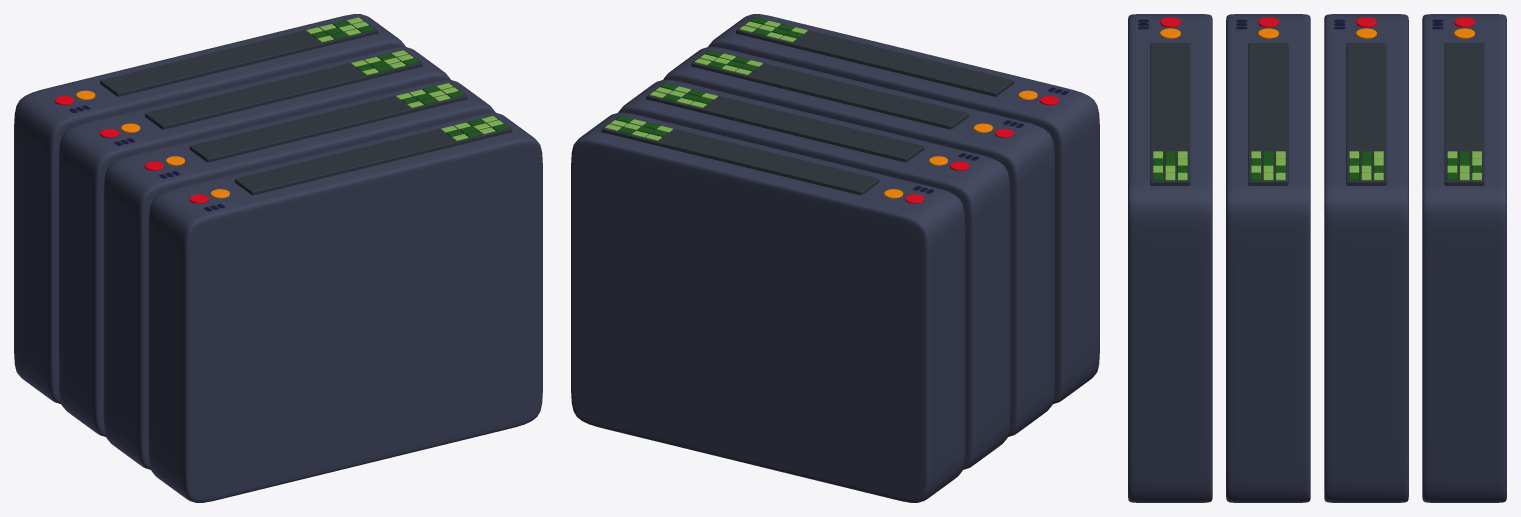
File: generic_server2.glb
3 renders of one model, left to right at view 1: azimuth 30°, elevation 25°; view 2: azimuth 150°, elevation 25°; view 3: azimuth 270°, elevation 25°, orthographic. The views are drawn at different scales.
Parts seen in each view (by area): view 1: Server 2; view 2: Server 2; view 3: Server 2.
Boxes of the visible parts, left/top/right/bottom form: Server 2: left=14, top=14, right=542, bottom=502; Server 2: left=571, top=14, right=1099, bottom=502; Server 2: left=1128, top=14, right=1506, bottom=502.
Bounding box in the file's own units: 0.8898 × 0.6922 × 0.7439.
